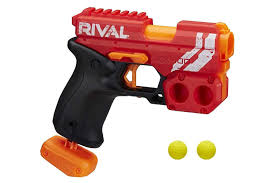gun: (51, 9, 236, 128)
